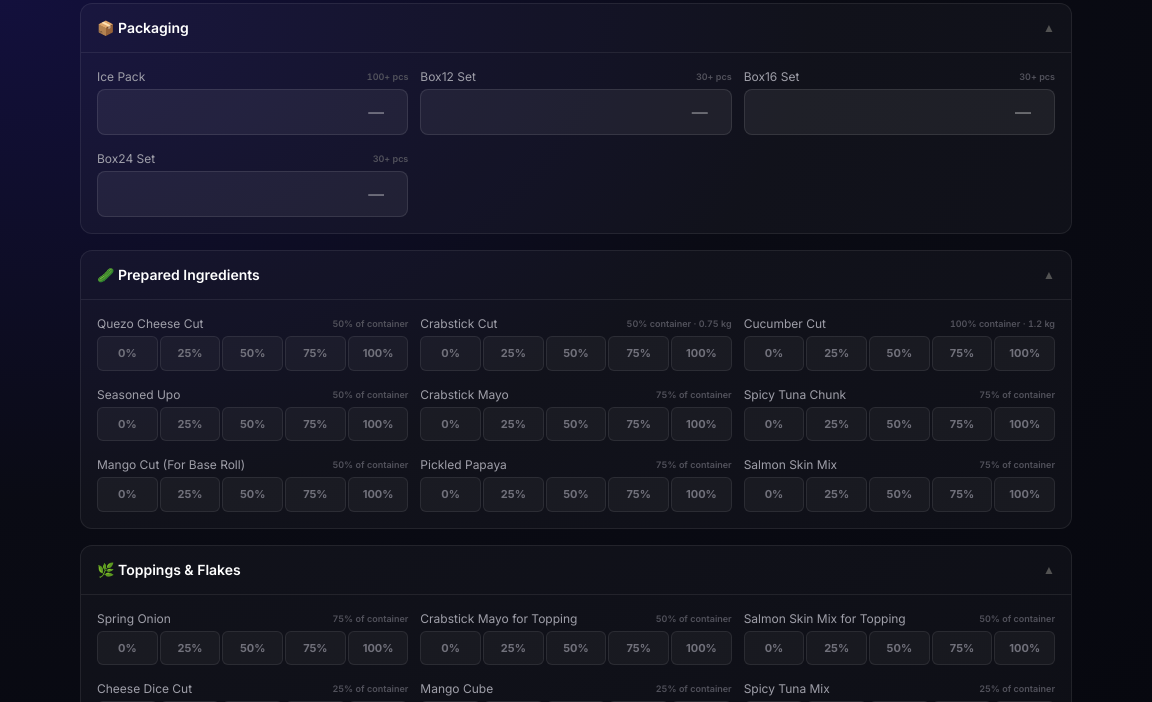
PctSelectorOI › clicking 50% selects it and increments filled count
(page scrolled)
Expected: the text "Quezo Cheese Cut" is shown, [97,316,204,331]
Click the button "50%" below "Quezo Cheese Cut" at (253, 353), box [222,336,283,370]
(page scrolled)
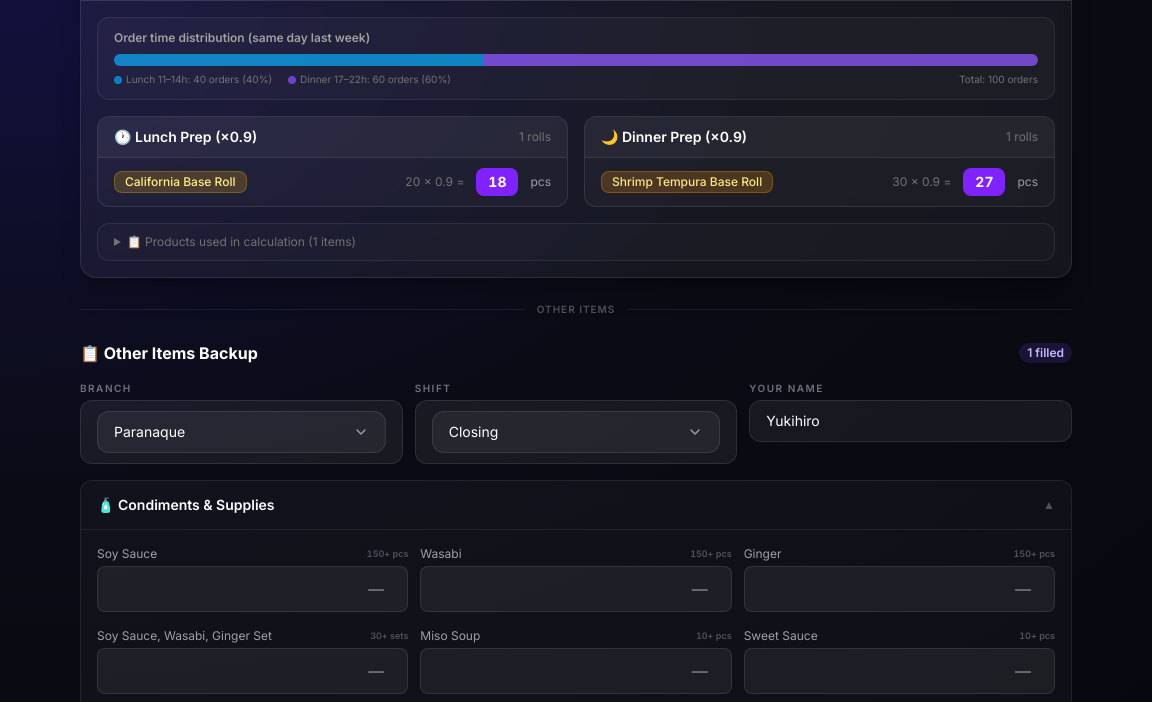
Result: the text "1 filled" is shown at [1019,343,1072,363]
